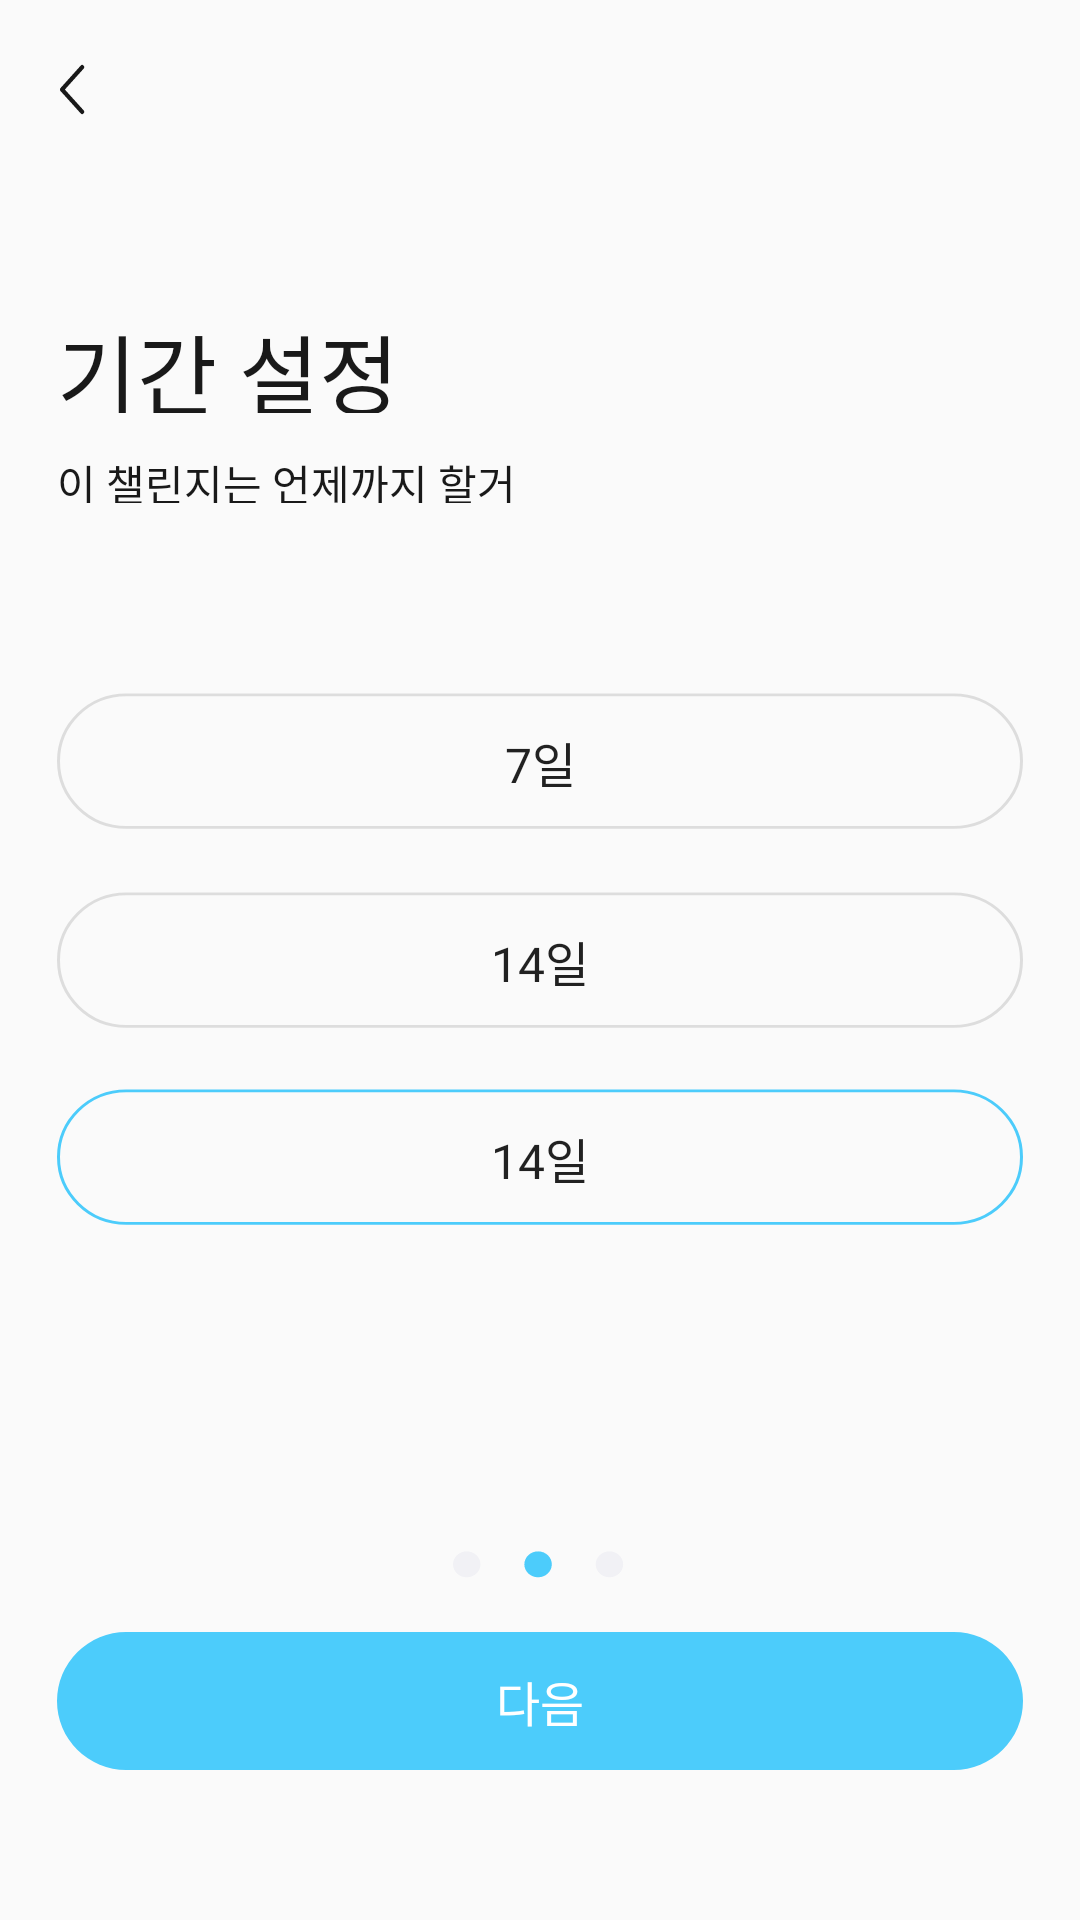

Locate icon controls on the screen. Image size 1080w x 1920h, boxes as (x1, y1, x2, y2).
back: (60, 64, 85, 115)
